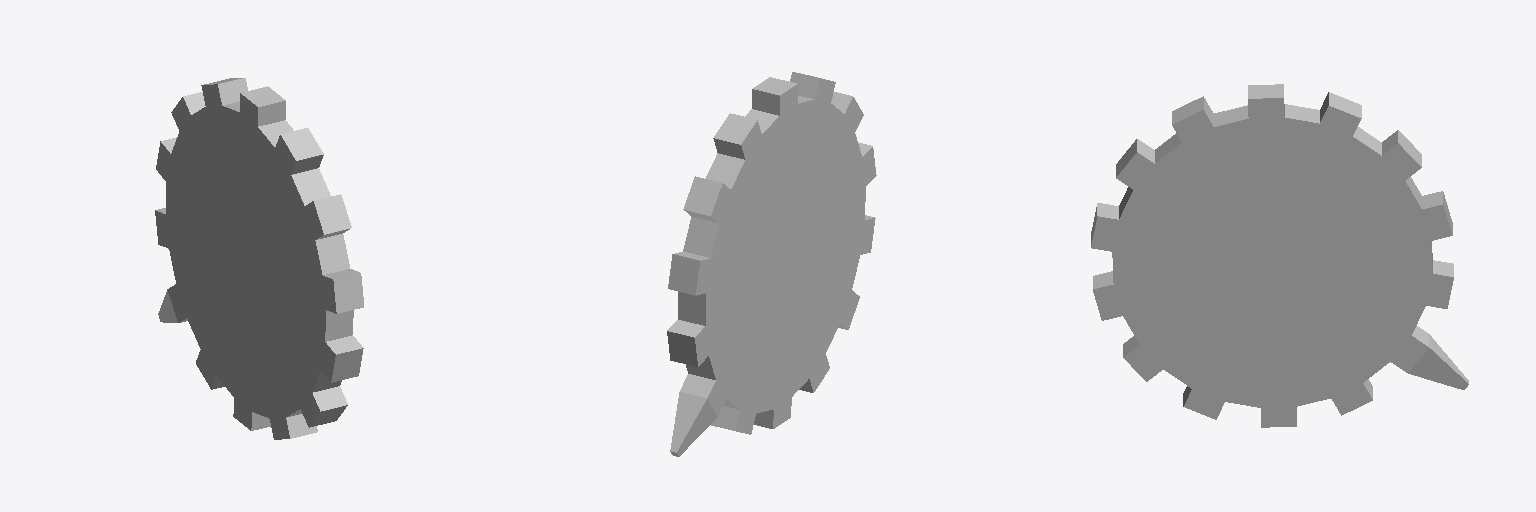
Rendered from gear_000014.obj.
The picture shows the model from 3 angles: view 1: azimuth 30°, elevation 25°; view 2: azimuth 150°, elevation 25°; view 3: azimuth 270°, elevation 25°; orthographic projection.
Parts seen in each view (by area): view 1: gear_Cylinder.001; view 2: gear_Cylinder.001; view 3: gear_Cylinder.001.
Boxes of the visible parts, box(x1,y1,x2,y2) form: gear_Cylinder.001: box(155, 78, 363, 439); gear_Cylinder.001: box(667, 72, 876, 456); gear_Cylinder.001: box(1091, 84, 1468, 427).
Bounding box in the file's own units: 0.1 × 1.13 × 1.18.